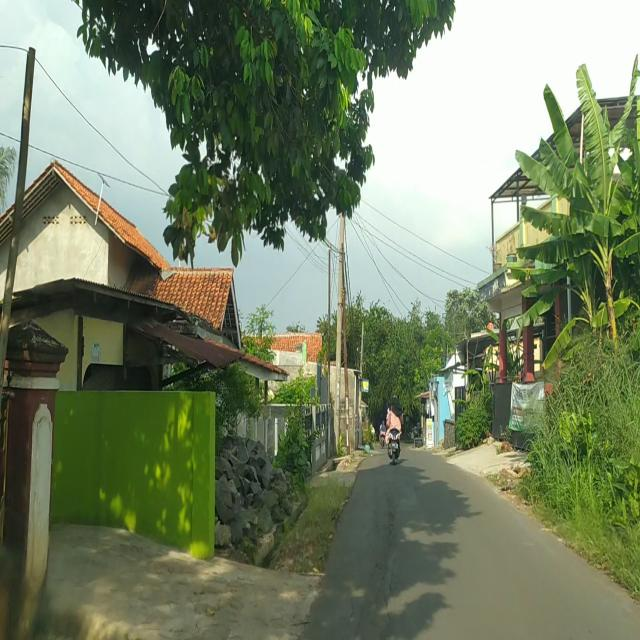Drain Hole: (356, 496, 404, 636)
